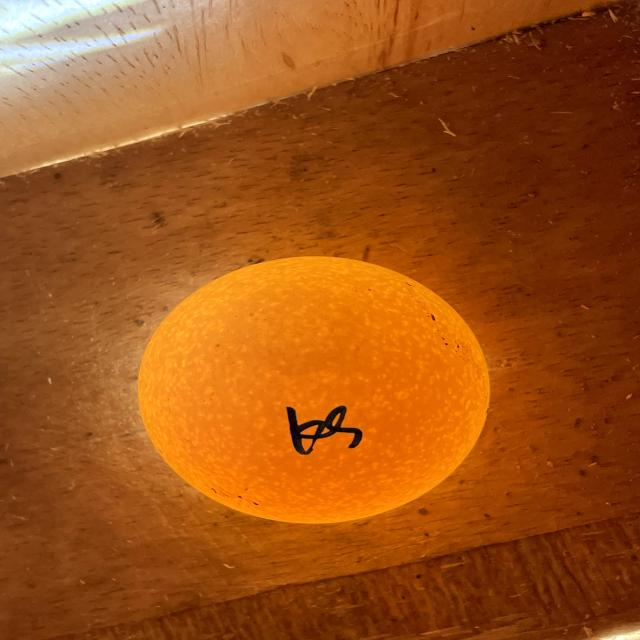infertile: (138, 256, 490, 522)
